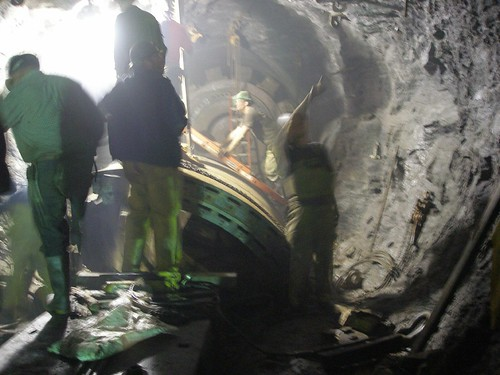person hardhat: (1, 53, 101, 316), (106, 43, 195, 291), (272, 111, 344, 323), (225, 87, 294, 179)
